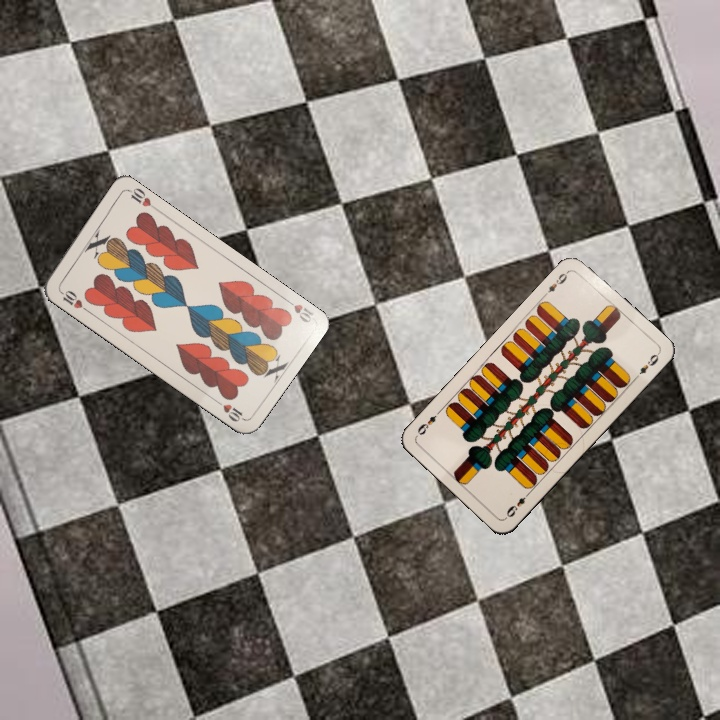E9: (540, 267, 572, 299), (502, 488, 533, 521)
H10: (280, 294, 316, 325), (55, 286, 91, 315)
